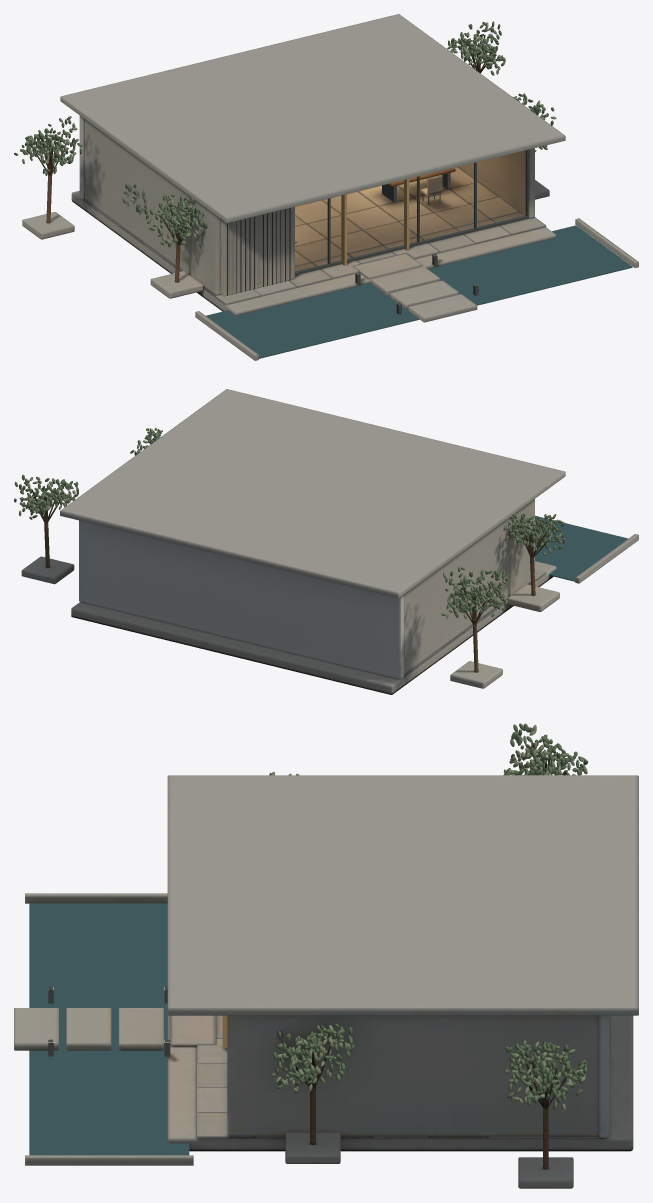
Rendered from lab-pavilion.glb.
The picture shows the model from 3 angles, top to bottom: view 1: azimuth 30°, elevation 25°; view 2: azimuth 150°, elevation 25°; view 3: azimuth 270°, elevation 25°; orthographic projection. The views are drawn at different scales.
Visible parts, largest first — view 1: Baked architecture, Still reflecting pool, Olive foliage, Bronze frames, Olive leaf silver, Brushed brass; view 2: Baked architecture, Olive foliage, Still reflecting pool, Olive leaf silver; view 3: Baked architecture, Still reflecting pool, Olive foliage, Olive leaf silver.
Boxes of the visible parts, x1,y1,x2,y2 form: Baked architecture: (22,14,638,360); Still reflecting pool: (206,225,632,358); Olive foliage: (14,21,554,247); Bronze frames: (295,150,528,314); Olive leaf silver: (24,22,556,245); Brushed brass: (341,179,409,265); Baked architecture: (21,389,638,694); Olive foliage: (14,428,565,617); Still reflecting pool: (535,515,628,581); Olive leaf silver: (19,427,565,618); Baked architecture: (14,743,638,1188); Still reflecting pool: (29,903,189,1155); Olive foliage: (269,723,588,1109); Olive leaf silver: (271,725,587,1111).
Size of what is drawn, in the model's own units: 27.09 by 6.07 by 21.48.
Materials: 7 (1 with a texture image).
